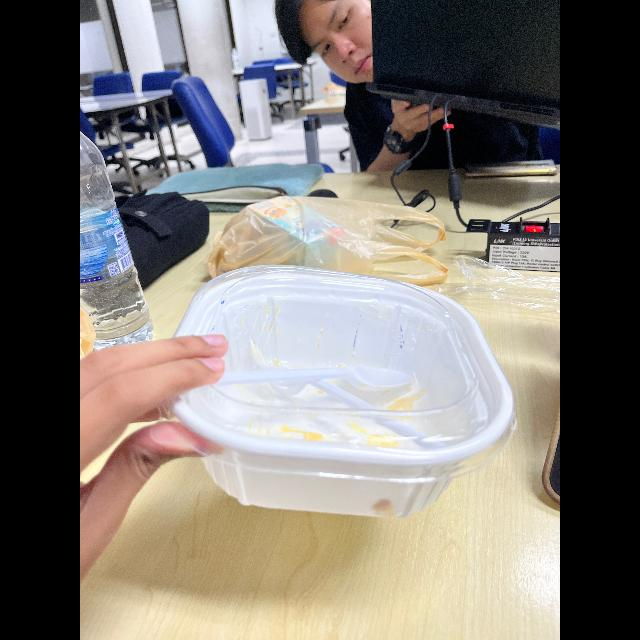plastic_box: (164, 262, 524, 534)
